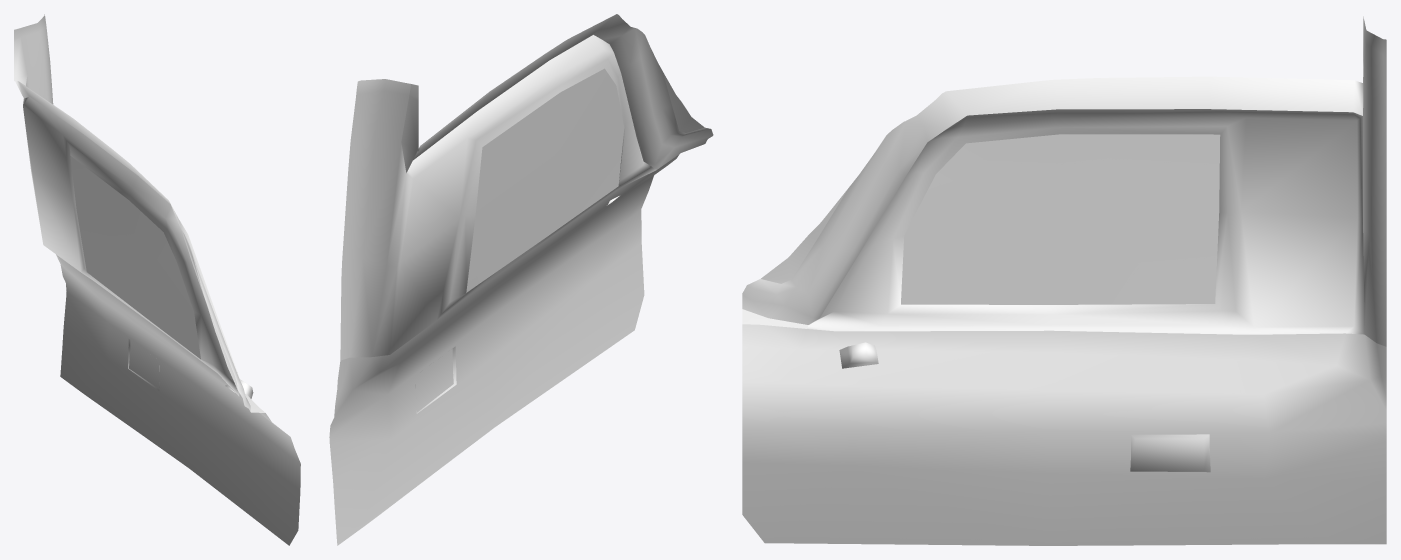
3 views of the same model, side by side, from view 1: azimuth 30°, elevation 25°; view 2: azimuth 150°, elevation 25°; view 3: azimuth 270°, elevation 25° (orthographic). The views are drawn at different scales.
Size of the model in its own units: 0.1709 by 0.9696 by 1.15.
1 material, 1 textured.
